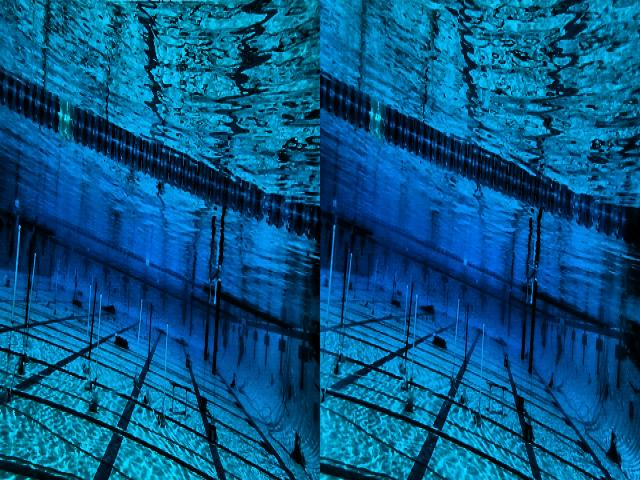gate: (520, 267, 538, 376), (204, 268, 222, 376)
path_marker: (170, 381, 192, 417), (486, 381, 508, 417)
